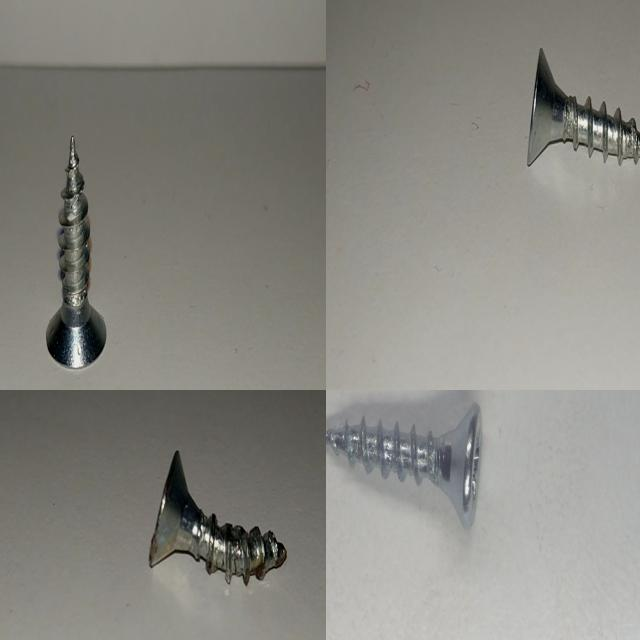Screw: (326, 403, 483, 528), (150, 449, 288, 584), (46, 134, 106, 368), (527, 47, 640, 164)
